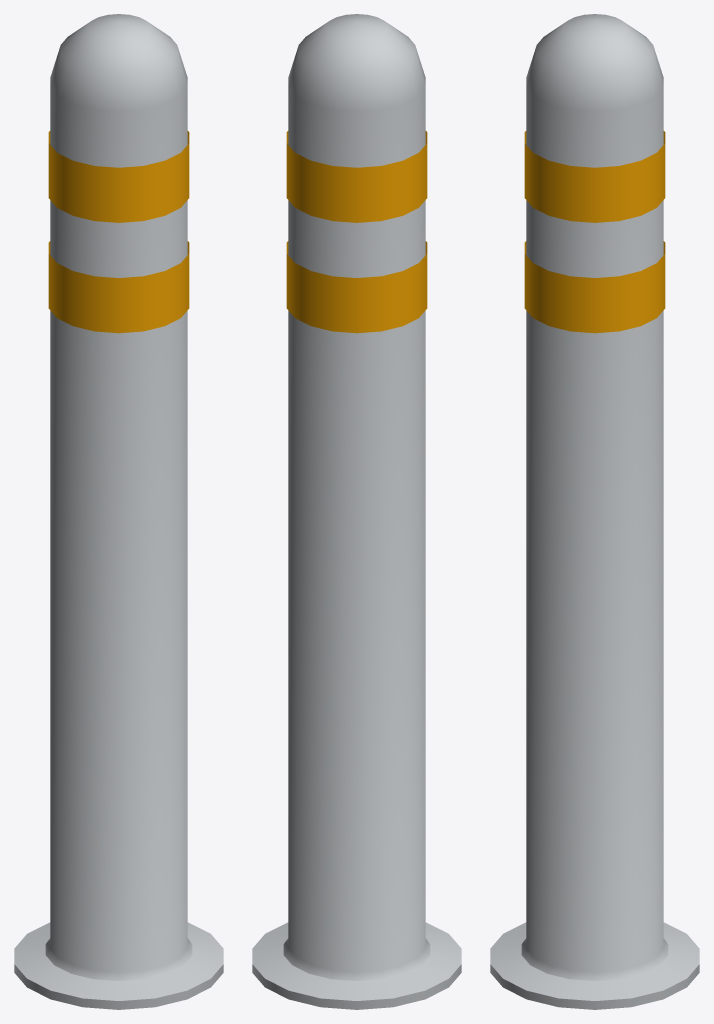
Rendered from bollard_steel.fbx.
The picture shows the model from 3 angles, left to right: view 1: azimuth 30°, elevation 25°; view 2: azimuth 150°, elevation 25°; view 3: azimuth 270°, elevation 25°; orthographic projection.
Parts seen in each view (by area): view 1: bollard_steel; view 2: bollard_steel; view 3: bollard_steel.
Boxes of the visible parts, x1,y1,x2,y2 form: bollard_steel: (14, 14, 223, 1009); bollard_steel: (252, 14, 461, 1009); bollard_steel: (490, 14, 699, 1009).
Size of the model in its own units: 0.1744 by 0.855 by 0.1718.
